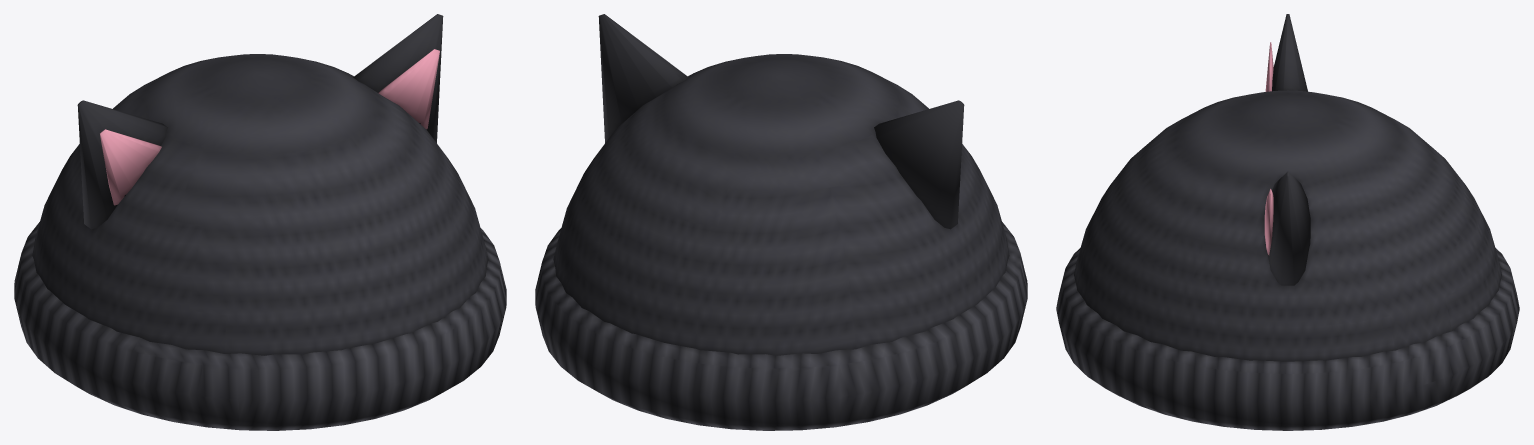
File: CatEarBeanie.glb
3 views of the same model, side by side, from view 1: azimuth 30°, elevation 25°; view 2: azimuth 150°, elevation 25°; view 3: azimuth 270°, elevation 25° (orthographic). The views are drawn at different scales.
Parts seen in each view (by area): view 1: CatEarBeanie; view 2: CatEarBeanie; view 3: CatEarBeanie.
Boxes of the visible parts, x1,y1,x2,y2 form: CatEarBeanie: (14, 14, 506, 430); CatEarBeanie: (535, 14, 1027, 430); CatEarBeanie: (1056, 14, 1519, 430).
Bounding box in the file's own units: 1.55 × 0.9711 × 1.61.
Materials: 1 (1 with a texture image).
